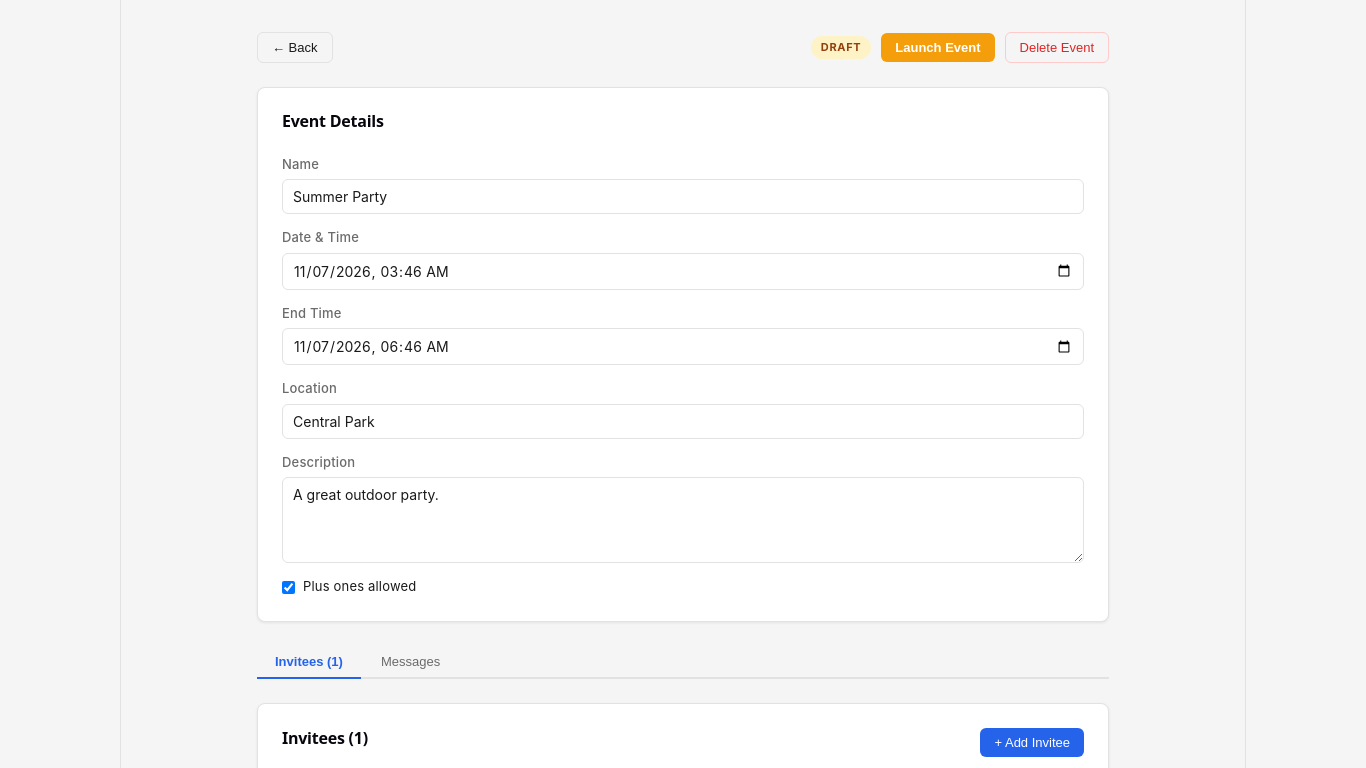
Test: EventDetails › expand/collapse a message row shows and hides the body
Expected: the field showing "Summer Party" is shown, x1=282 y1=179 x2=1084 y2=214
Click the button "Messages" at (411, 662), box x1=363 y1=646 x2=458 y2=679
(page scrolled)
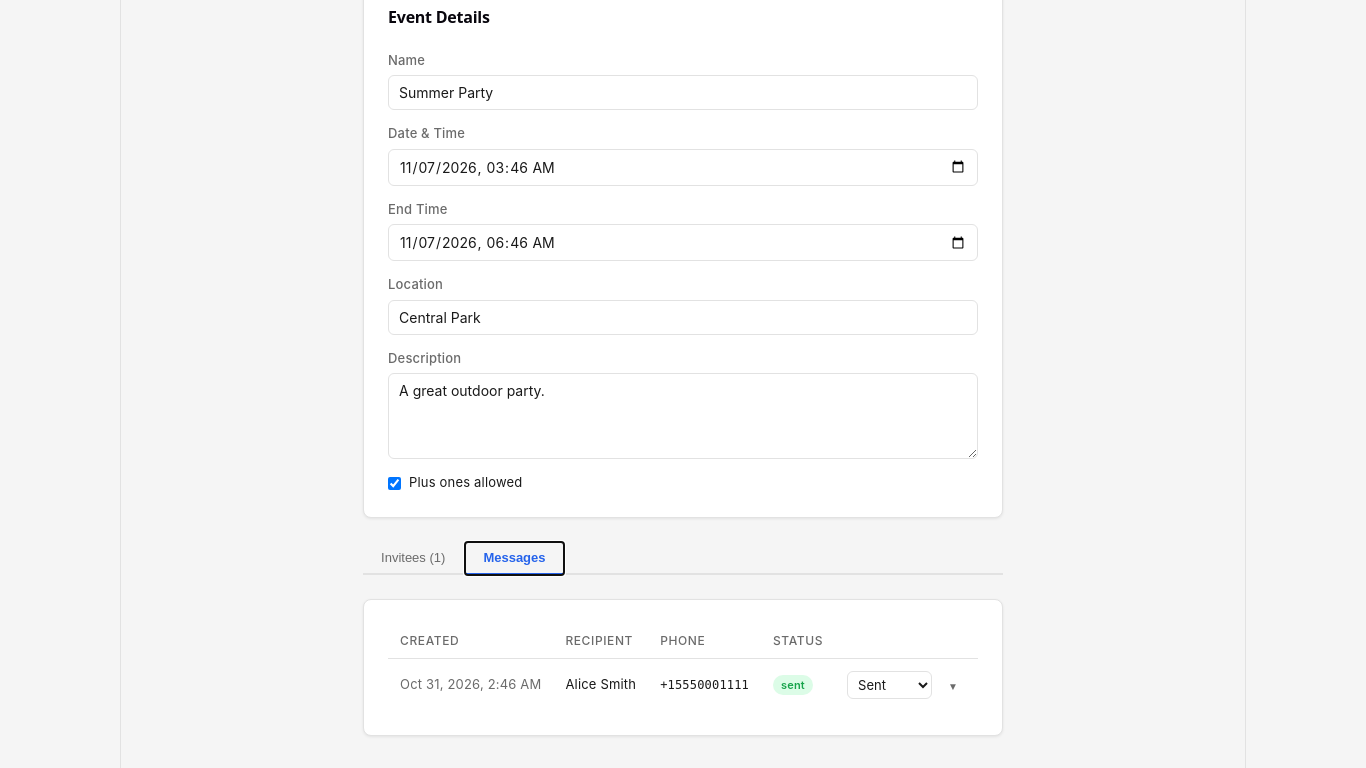
Expected: the text "Alice Smith" is shown, x1=553 y1=658 x2=648 y2=711
Expected: the text "You are invited to Summer Party!" is not shown
Click the button titled "Expand" at (953, 686), box x1=940 y1=677 x2=966 y2=696
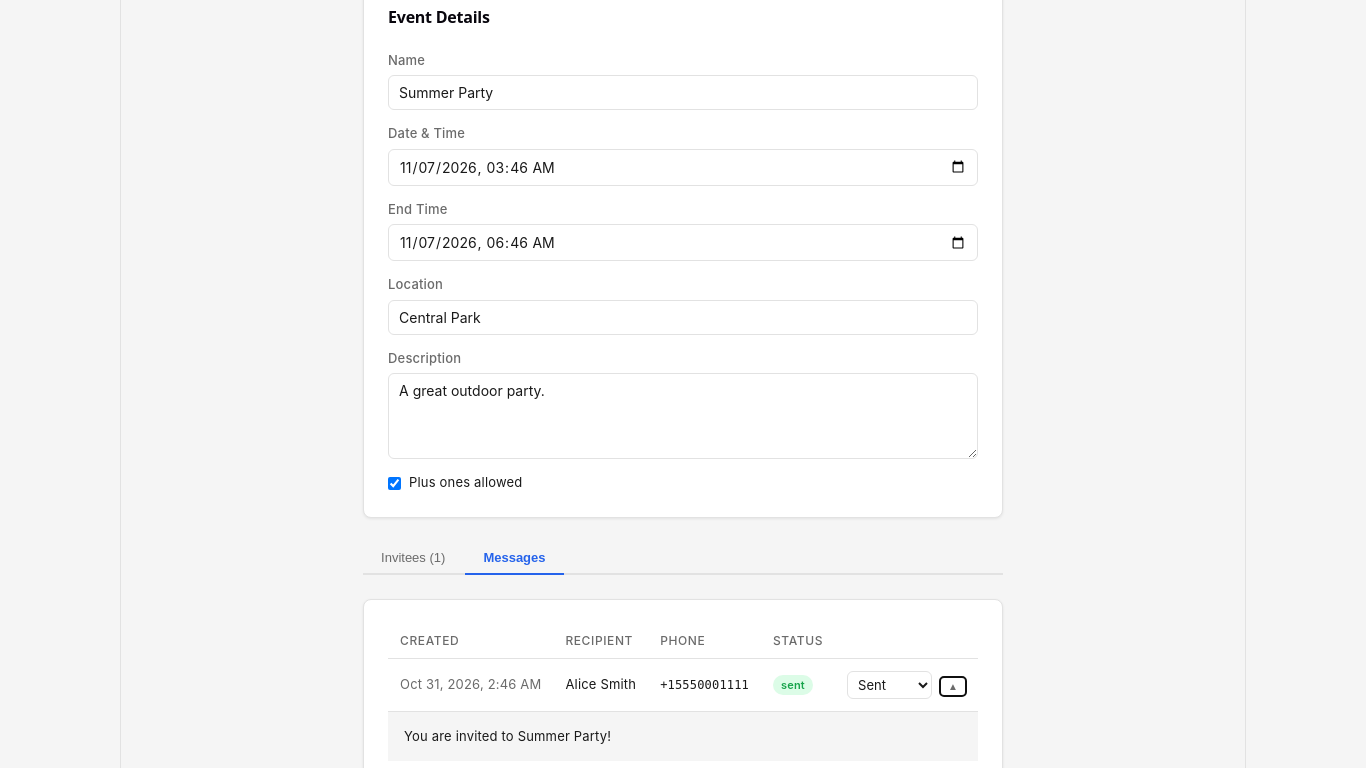
Result: the text "You are invited to Summer Party!" is shown at x1=388 y1=712 x2=978 y2=761
Click the button titled "Collapse" at (953, 686), box x1=940 y1=677 x2=966 y2=696
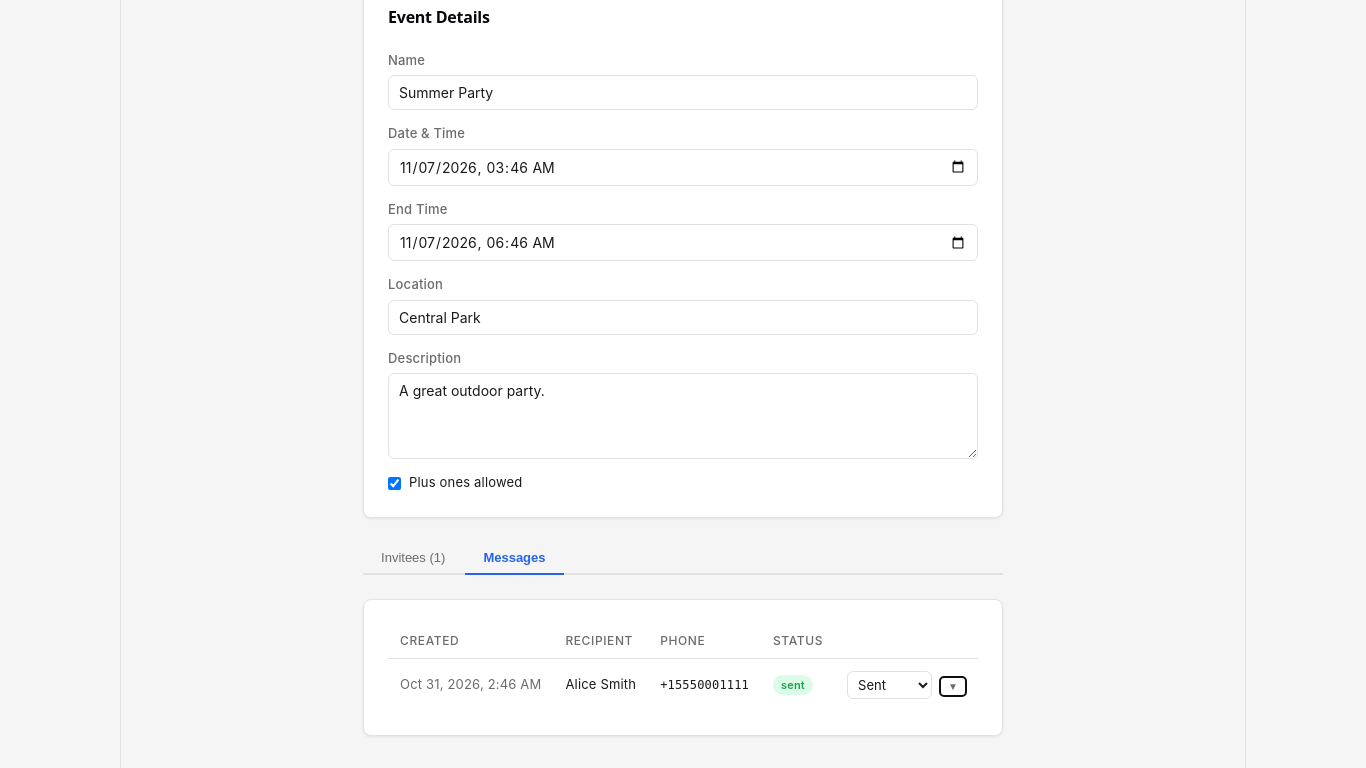
Result: the text "You are invited to Summer Party!" is gone
